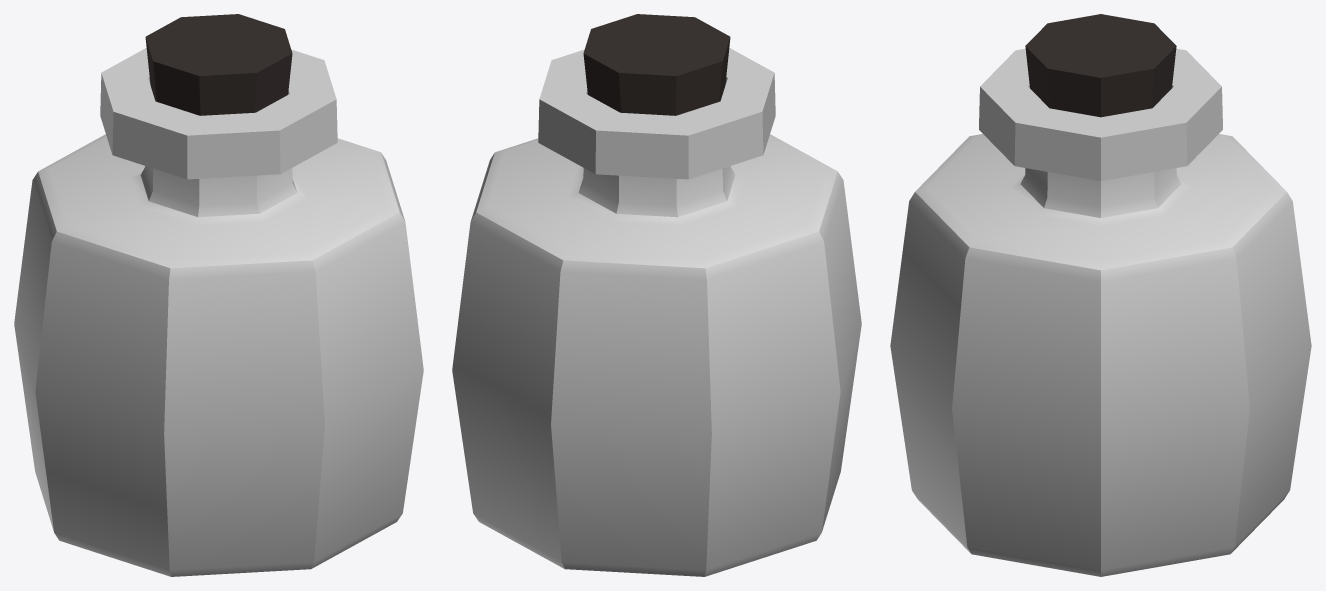
Rendered from dye-bottle-4.fbx.
The picture shows the model from 3 angles, left to right: view 1: azimuth 30°, elevation 25°; view 2: azimuth 150°, elevation 25°; view 3: azimuth 270°, elevation 25°; orthographic projection.
Parts seen in each view (by area): view 1: dye-bottle-4; view 2: dye-bottle-4; view 3: dye-bottle-4.
Part boxes in pixels (x1,y1,x2,y2): dye-bottle-4: [14, 14, 423, 576]; dye-bottle-4: [452, 14, 861, 576]; dye-bottle-4: [890, 14, 1311, 576].
Size of the model in its own units: 10.92 by 13.08 by 10.92.
Materials: 2 (1 with a texture image).
